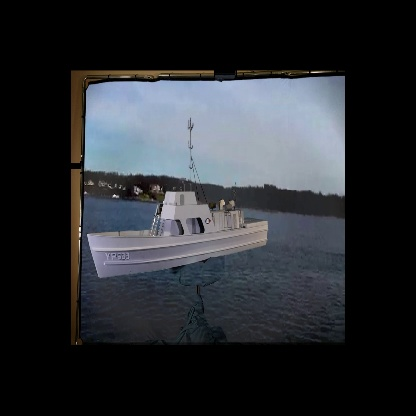YP689: (87, 118, 269, 281)
